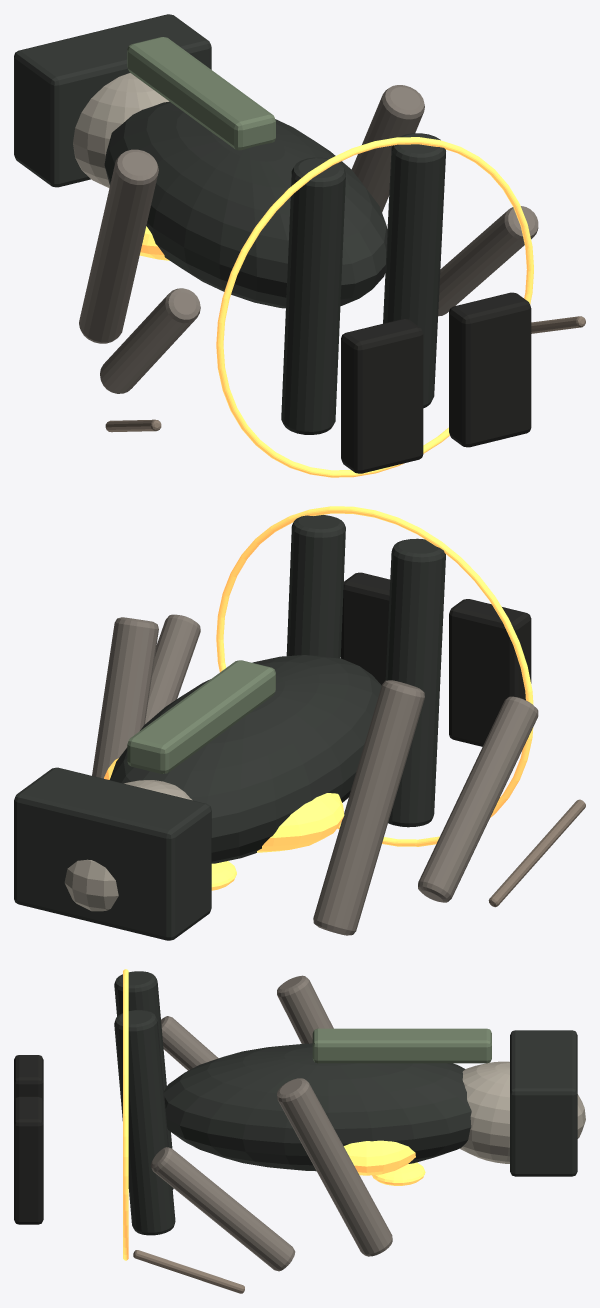
The model's file is dz_boss_street_alpha_stalker.glb.
3 views of the same model, one above another, from view 1: azimuth 30°, elevation 25°; view 2: azimuth 150°, elevation 25°; view 3: azimuth 270°, elevation 25° (orthographic). The views are drawn at different scales.
Parts seen in each view (by area): view 1: dz_torso_boss_street_alpha, dz_limb_leg_l_street_alpha, dz_variant_hood_street_alpha, dz_limb_foot_r_street_alpha, dz_limb_foot_l_street_alpha, dz_limb_leg_r_street_alpha, dz_limb_arm_l_street_alpha, dz_silhouette_spine_rags_street_alpha, dz_boss_attack_cue_street_alpha, dz_limb_forearm_l_street_alpha, dz_head_boss_street_alpha, dz_limb_forearm_r_street_alpha (+3 smaller); view 2: dz_variant_hood_street_alpha, dz_torso_boss_street_alpha, dz_limb_leg_l_street_alpha, dz_limb_arm_l_street_alpha, dz_limb_foot_l_street_alpha, dz_limb_forearm_l_street_alpha, dz_silhouette_spine_rags_street_alpha, dz_limb_leg_r_street_alpha, dz_limb_arm_r_street_alpha, dz_boss_attack_cue_street_alpha, dz_limb_foot_r_street_alpha, dz_limb_forearm_r_street_alpha (+4 smaller); view 3: dz_torso_boss_street_alpha, dz_variant_hood_street_alpha, dz_limb_leg_r_street_alpha, dz_limb_arm_r_street_alpha, dz_silhouette_spine_rags_street_alpha, dz_limb_forearm_r_street_alpha, dz_head_boss_street_alpha, dz_limb_foot_r_street_alpha, dz_limb_arm_l_street_alpha, dz_limb_leg_l_street_alpha, dz_chest_boss_street_alpha, dz_boss_attack_cue_street_alpha (+4 smaller).
Boxes of the visible parts, left/top/right/bottom form: dz_torso_boss_street_alpha: left=104, top=101, right=387, bottom=308; dz_limb_leg_l_street_alpha: left=281, top=157, right=345, bottom=434; dz_variant_hood_street_alpha: left=14, top=14, right=211, bottom=187; dz_limb_foot_r_street_alpha: left=449, top=292, right=531, bottom=447; dz_limb_foot_l_street_alpha: left=341, top=319, right=423, bottom=473; dz_limb_leg_r_street_alpha: left=383, top=133, right=445, bottom=408; dz_limb_arm_l_street_alpha: left=79, top=149, right=158, bottom=343; dz_silhouette_spine_rags_street_alpha: left=127, top=37, right=275, bottom=150; dz_boss_attack_cue_street_alpha: left=216, top=137, right=533, bottom=477; dz_limb_forearm_l_street_alpha: left=100, top=288, right=200, bottom=393; dz_head_boss_street_alpha: left=73, top=73, right=169, bottom=188; dz_limb_forearm_r_street_alpha: left=438, top=206, right=538, bottom=316; dz_variant_hood_street_alpha: left=14, top=767, right=211, bottom=940; dz_torso_boss_street_alpha: left=110, top=655, right=381, bottom=863; dz_limb_leg_l_street_alpha: left=385, top=538, right=445, bottom=827; dz_limb_arm_l_street_alpha: left=313, top=680, right=424, bottom=935; dz_limb_foot_l_street_alpha: left=449, top=599, right=531, bottom=746; dz_limb_forearm_l_street_alpha: left=418, top=696, right=538, bottom=902; dz_silhouette_spine_rags_street_alpha: left=127, top=660, right=275, bottom=773; dz_limb_leg_r_street_alpha: left=286, top=515, right=345, bottom=658; dz_limb_arm_r_street_alpha: left=92, top=617, right=158, bottom=778; dz_boss_attack_cue_street_alpha: left=216, top=506, right=533, bottom=846; dz_limb_foot_r_street_alpha: left=341, top=572, right=390, bottom=685; dz_limb_forearm_r_street_alpha: left=145, top=614, right=200, bottom=723; dz_torso_boss_street_alpha: left=164, top=1043, right=471, bottom=1171; dz_variant_hood_street_alpha: left=510, top=1030, right=577, bottom=1176; dz_limb_leg_r_street_alpha: left=114, top=1010, right=175, bottom=1235; dz_limb_arm_r_street_alpha: left=277, top=1078, right=392, bottom=1256; dz_silhouette_spine_rags_street_alpha: left=312, top=1028, right=491, bottom=1063; dz_limb_forearm_r_street_alpha: left=150, top=1147, right=295, bottom=1271; dz_head_boss_street_alpha: left=459, top=1061, right=585, bottom=1163; dz_limb_foot_r_street_alpha: left=14, top=1096, right=43, bottom=1224; dz_limb_arm_l_street_alpha: left=277, top=975, right=333, bottom=1043; dz_limb_leg_l_street_alpha: left=114, top=971, right=173, bottom=1189; dz_chest_boss_street_alpha: left=344, top=1140, right=415, bottom=1175; dz_boss_attack_cue_street_alpha: left=123, top=969, right=128, bottom=1260.
Bounding box in the file's own units: 1.89 × 1.38 × 2.71.
